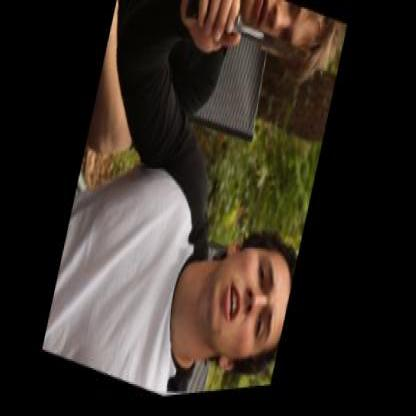knife: (195, 0, 330, 101)
